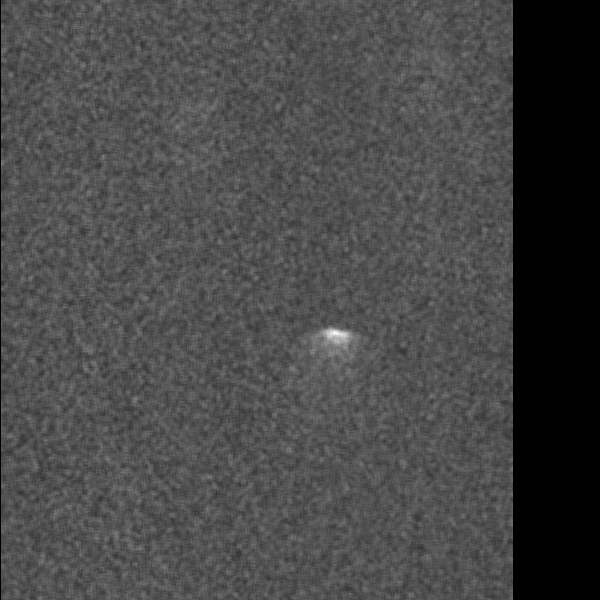spark: (430, 379, 488, 433), (103, 76, 157, 126), (276, 182, 313, 230), (105, 243, 149, 281), (427, 235, 491, 258), (285, 546, 325, 581), (379, 170, 417, 199), (488, 257, 509, 309), (458, 472, 488, 493), (488, 579, 515, 600), (446, 540, 473, 560), (441, 307, 470, 322), (245, 589, 280, 600), (499, 429, 513, 450)
